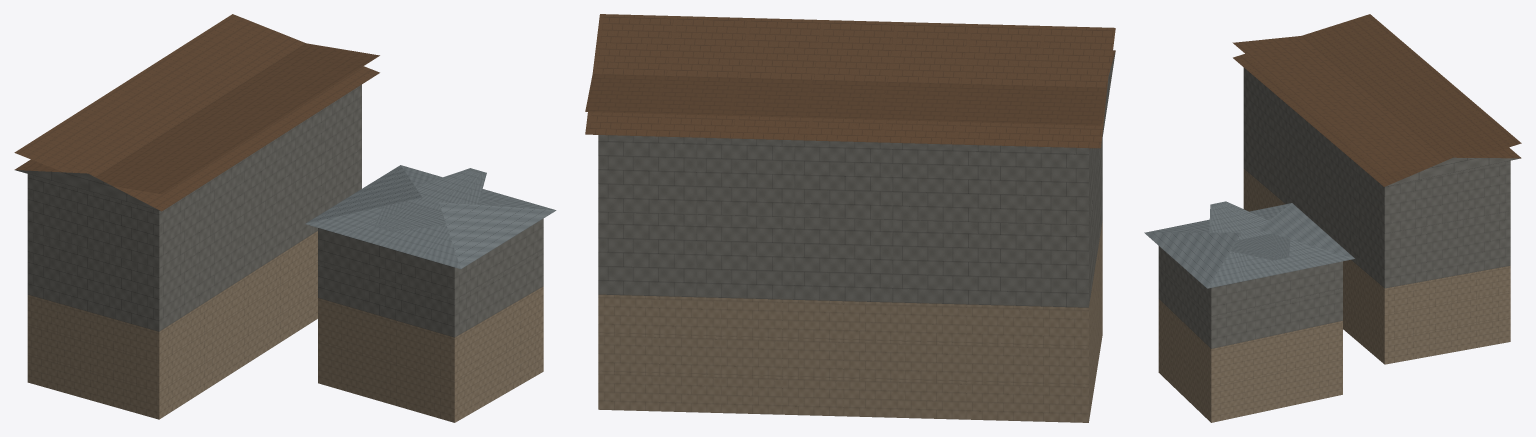
The model's file is bld_c-37_-35_875.gltf.
The picture shows the model from 3 angles, left to right: view 1: azimuth 30°, elevation 25°; view 2: azimuth 150°, elevation 25°; view 3: azimuth 270°, elevation 25°; orthographic projection. The views are drawn at different scales.
Visible parts, largest first — view 1: bld_c-37_-35_875; view 2: bld_c-37_-35_875; view 3: bld_c-37_-35_875.
Part boxes in pixels (x1,y1,x2,y2): bld_c-37_-35_875: (14,14,556,422); bld_c-37_-35_875: (585,14,1115,422); bld_c-37_-35_875: (1144,14,1521,422).
Size of the model in its own units: 27.24 by 15 by 22.93.
Materials: 5 (5 with a texture image).
